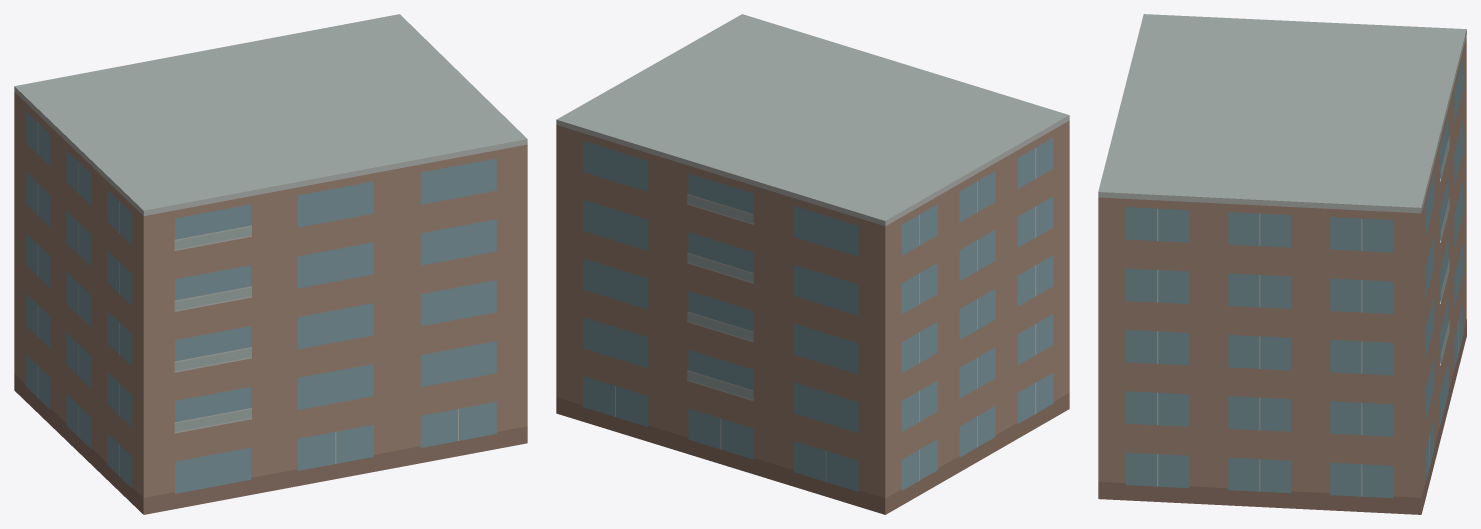
File: survey-upis-32923783.glb
The picture shows the model from 3 angles, left to right: view 1: azimuth 30°, elevation 25°; view 2: azimuth 150°, elevation 25°; view 3: azimuth 270°, elevation 25°; orthographic projection. The views are drawn at different scales.
Parts seen in each view (by area): view 1: survey-upis-32923783.tmp; view 2: survey-upis-32923783.tmp; view 3: survey-upis-32923783.tmp.
Part boxes in pixels (x1,y1,x2,y2): survey-upis-32923783.tmp: (14,14,527,514); survey-upis-32923783.tmp: (556,14,1069,514); survey-upis-32923783.tmp: (1098,14,1466,514).
Size of the model in its own units: 18.57 by 13.7 by 14.92.
